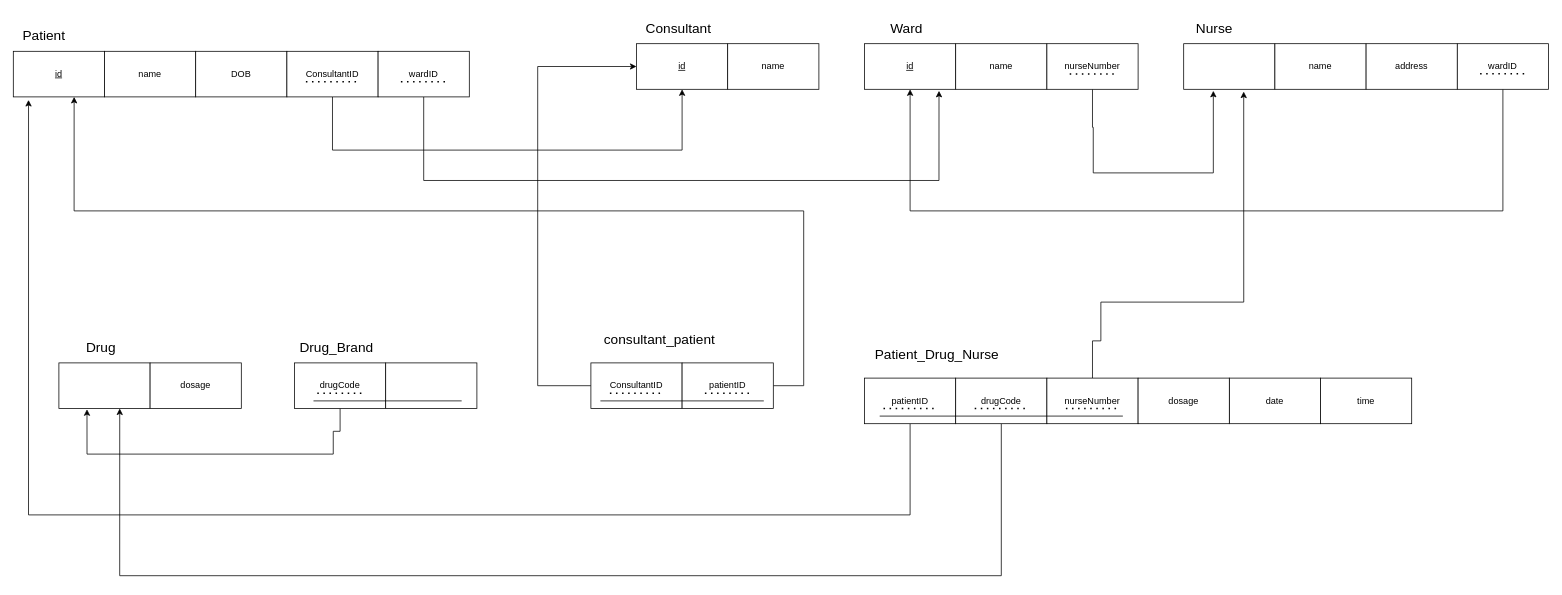
The diagram is 1562 pixels wide and 595 high, and some of its shapes have lost their labels. Each missing label, with the centre of its shape:
Brands: [431,385]
code: [104,385]
number: [1229,66]
